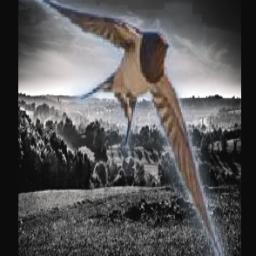Swallow: (19, 0, 232, 256)
